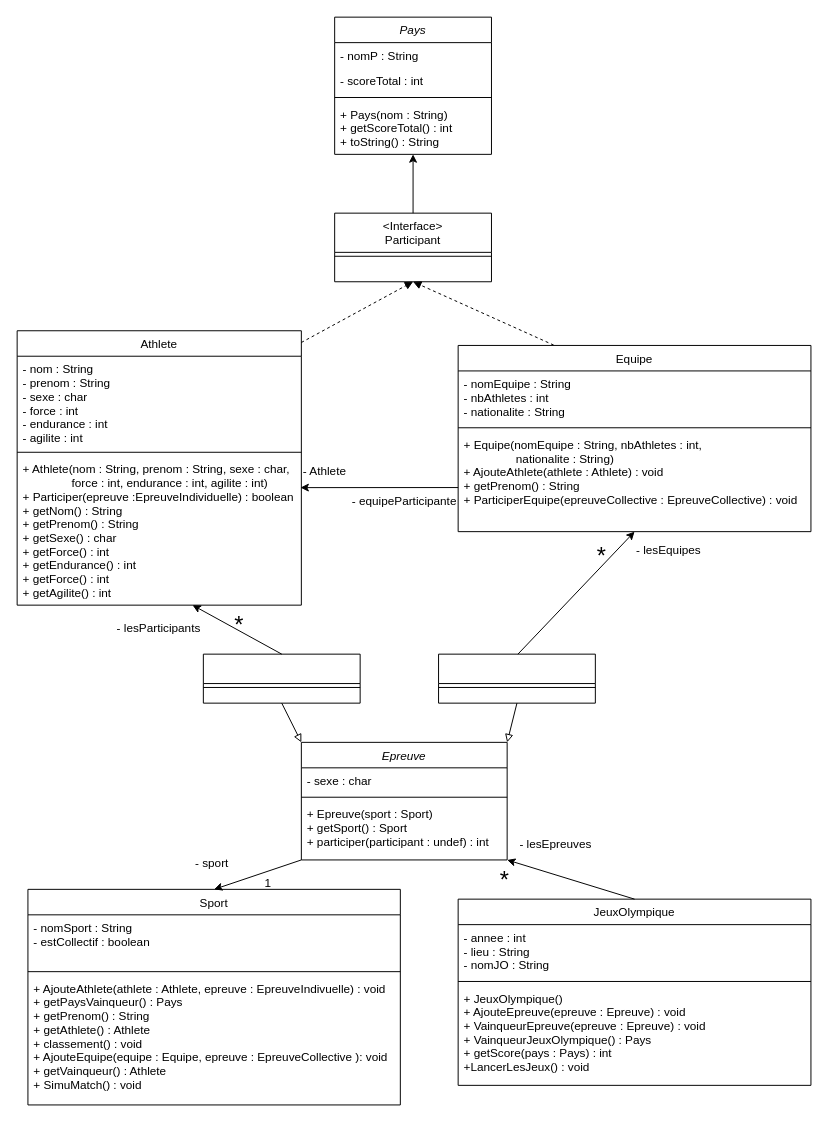
This 828x1122 diagram has some shape labels left out. The centre of each missing label's shape, as x and y in pixels:
"EpreuveCollective" goes at (516,678).
"EpreuveIndividuelle" goes at (281,678).
